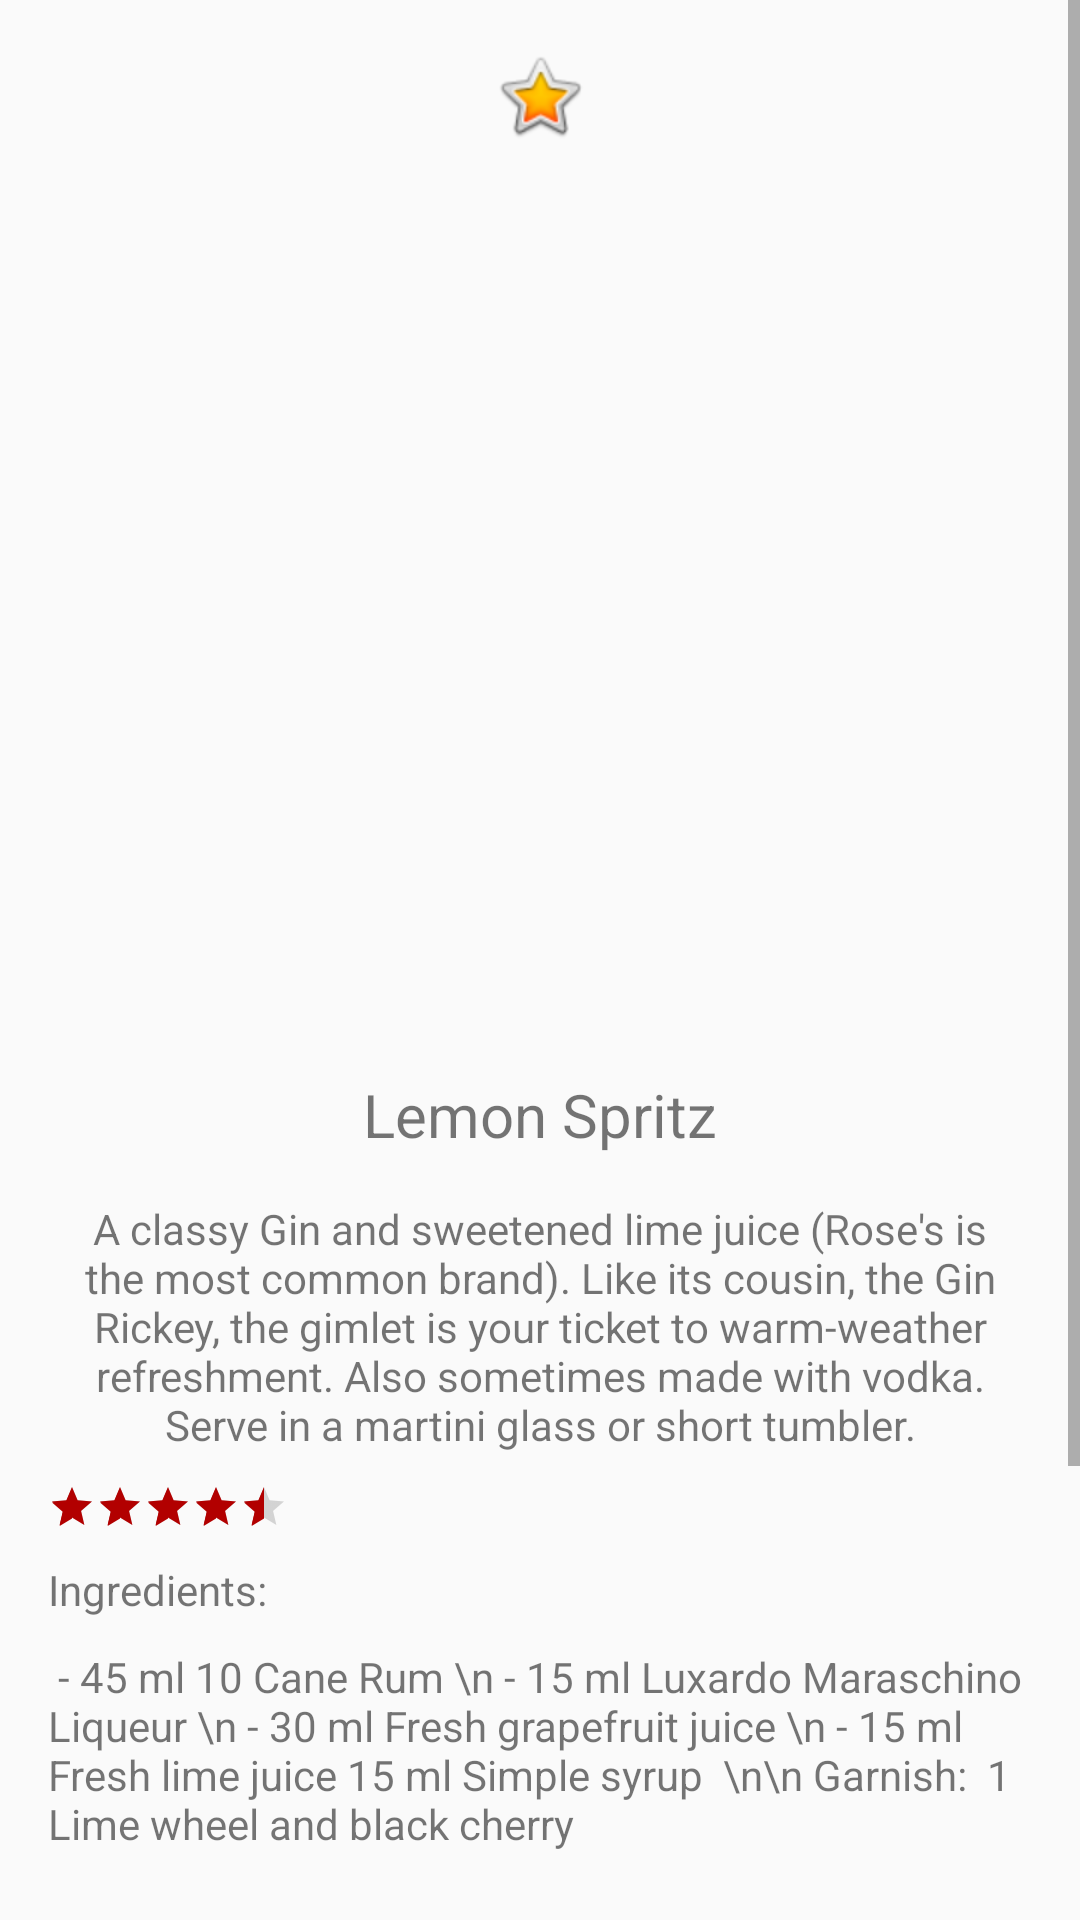

Point at icon controls on the screen. Image size 1080 × 1920, points as (x=x, y=y).
star on: (x=541, y=97)
